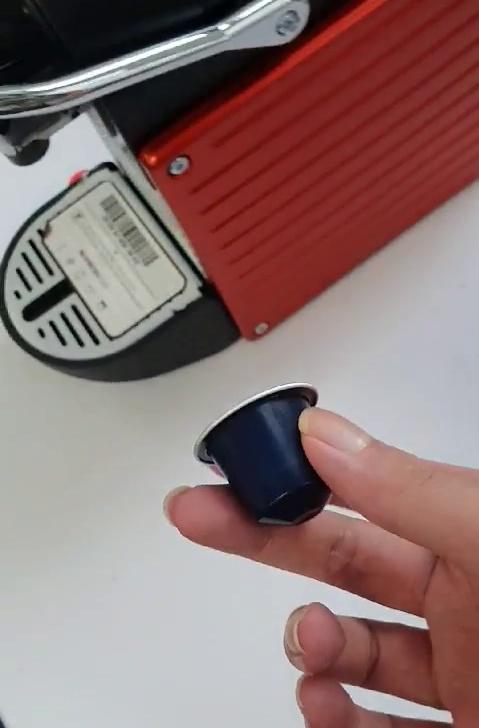capsule_1: (192, 381, 337, 529)
